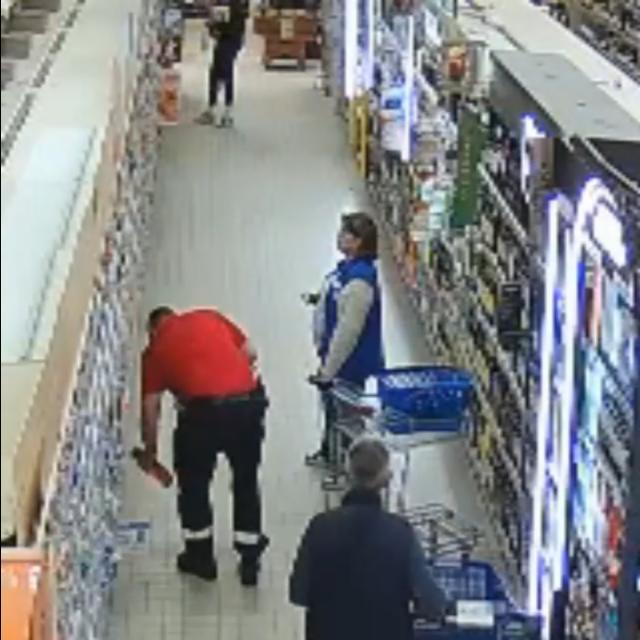article: (149, 462, 173, 487)
hands: (132, 446, 157, 468), (308, 373, 332, 390), (302, 293, 320, 306)
person: (142, 307, 267, 585), (290, 438, 446, 639), (307, 213, 383, 465)
